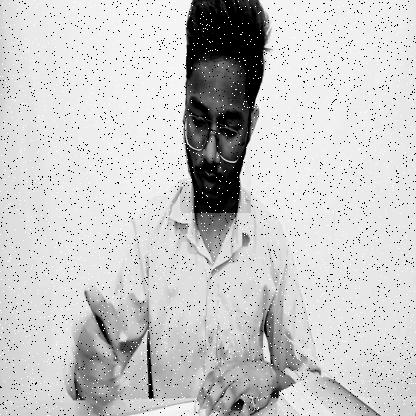Distracted: (180, 45, 251, 213)
